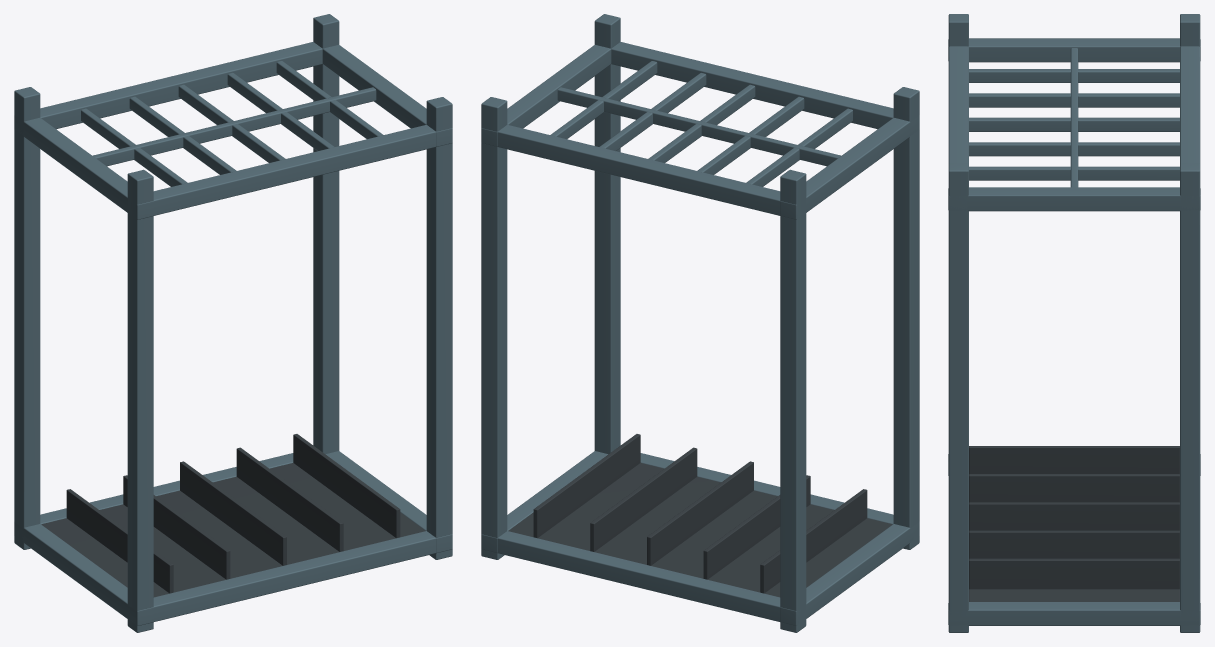
Rendered from garage-long-tool-stand.glb.
3 views of the same model, side by side, from view 1: azimuth 30°, elevation 25°; view 2: azimuth 150°, elevation 25°; view 3: azimuth 270°, elevation 25° (orthographic). The views are drawn at different scales.
Parts seen in each view (by area): view 1: catalog_surface_RealismUV; view 2: catalog_surface_RealismUV; view 3: catalog_surface_RealismUV.
Part boxes in pixels (x1,y1,x2,y2): catalog_surface_RealismUV: (14,14,452,632); catalog_surface_RealismUV: (481,14,919,632); catalog_surface_RealismUV: (948,14,1200,632).
Bounding box in the file's own units: 0.62 × 0.85 × 0.42.
